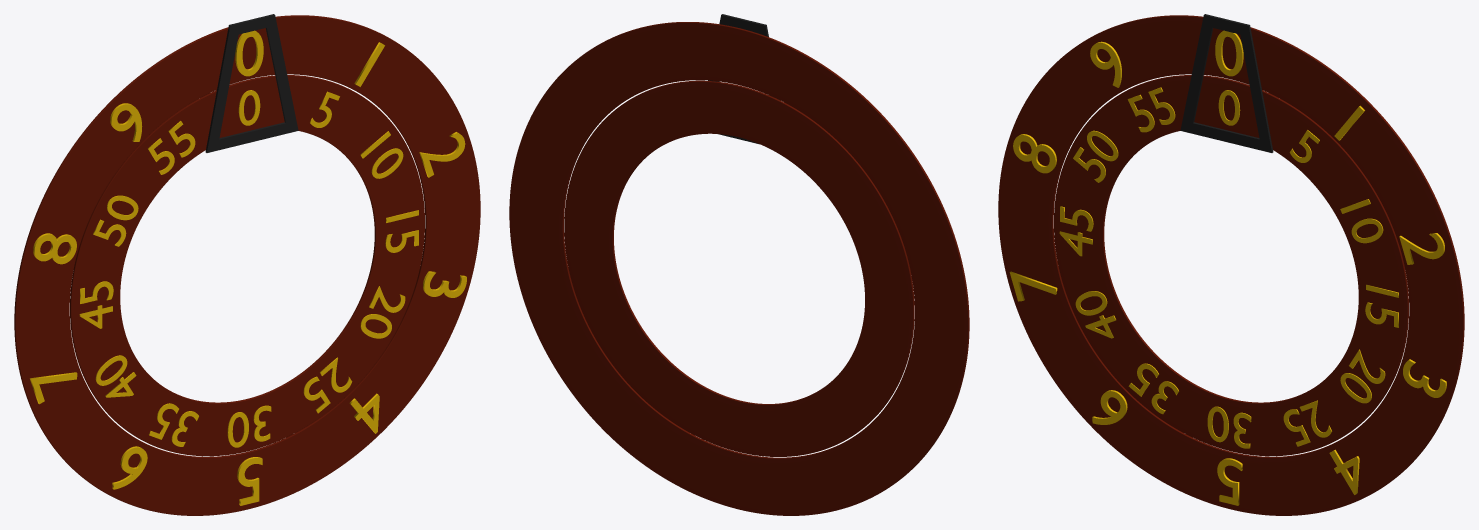
File: StartButton_001.fbx
3 views of the same model, side by side, from view 1: azimuth 30°, elevation 25°; view 2: azimuth 150°, elevation 25°; view 3: azimuth 330°, elevation 25° (orthographic).
Parts seen in each view (by area): view 1: MinutesRing, SecondsRing, CounterBoarder, Text.008, Text.017, Text.015, Text.019, Text.013, Text, Text.018, Text.020, Text.014 (+9 smaller); view 2: MinutesRing, SecondsRing, CounterBoarder; view 3: MinutesRing, SecondsRing, CounterBoarder, Text.008, Text.013, Text.019, Text.015, Text.017, Text, Text.018, Text.020, Text.014 (+10 smaller).
Part boxes in pixels (x1,y1,x2,y2): MinutesRing: (14, 15, 480, 515); SecondsRing: (70, 75, 424, 456); CounterBoarder: (205, 14, 298, 152); Text.008: (33, 233, 76, 264); Text.017: (95, 355, 136, 397); Text.015: (227, 405, 271, 447); Text.019: (93, 195, 138, 246); Text.013: (360, 286, 405, 338); Text: (235, 30, 263, 76); Text.018: (79, 281, 113, 328); Text.020: (148, 121, 195, 174); Text.014: (303, 357, 352, 413); MinutesRing: (509, 22, 969, 515); SecondsRing: (564, 80, 914, 456); CounterBoarder: (708, 14, 768, 144); MinutesRing: (998, 15, 1464, 515); SecondsRing: (1054, 75, 1408, 456); CounterBoarder: (1180, 14, 1273, 152); Text.008: (1013, 134, 1056, 173); Text.013: (1340, 349, 1385, 403); Text.019: (1073, 130, 1118, 182); Text.015: (1207, 406, 1251, 448); Text.017: (1075, 291, 1116, 338); Text: (1215, 30, 1243, 76); Text.018: (1059, 206, 1093, 256); Text.020: (1127, 87, 1175, 132); Text.014: (1283, 400, 1331, 446).
Size of the model in its own units: 199 by 4.36 by 201.
